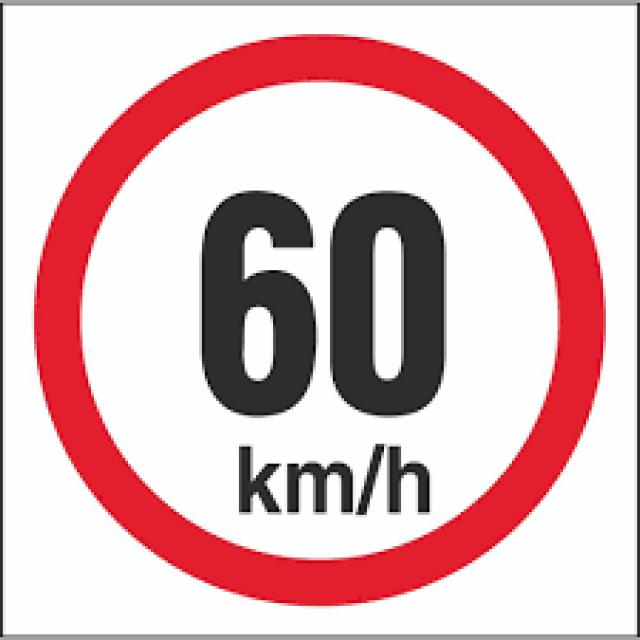Limite-60: (30, 26, 612, 613)
